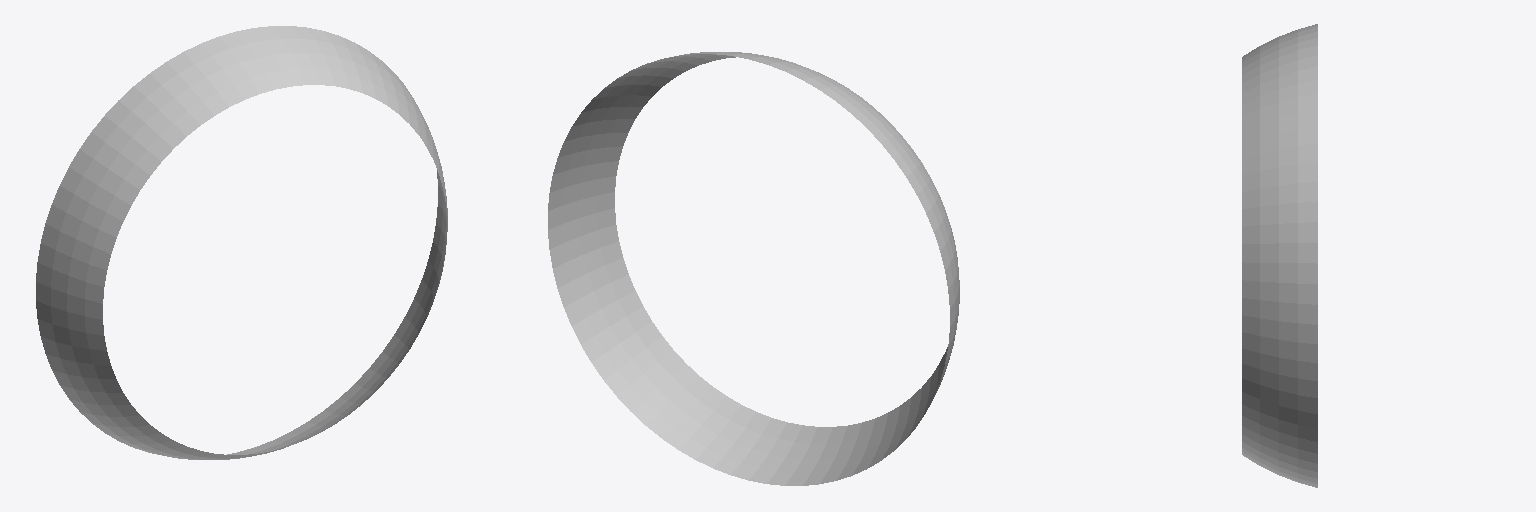
Rendered from planet_glow_fresnel.obj.
3 views of the same model, side by side, from view 1: azimuth 30°, elevation 25°; view 2: azimuth 150°, elevation 25°; view 3: azimuth 270°, elevation 25° (orthographic).
Visible parts, largest first — view 1: atmo_glow_fresnel; view 2: atmo_glow_fresnel; view 3: atmo_glow_fresnel.
Boxes of the visible parts, x1=… form: atmo_glow_fresnel: x1=36, y1=26, x2=447, y2=459; atmo_glow_fresnel: x1=548, y1=52, x2=959, y2=485; atmo_glow_fresnel: x1=1242, y1=24, x2=1317, y2=487.
Bounding box in the file's own units: 98.39 × 98.49 × 16.26.